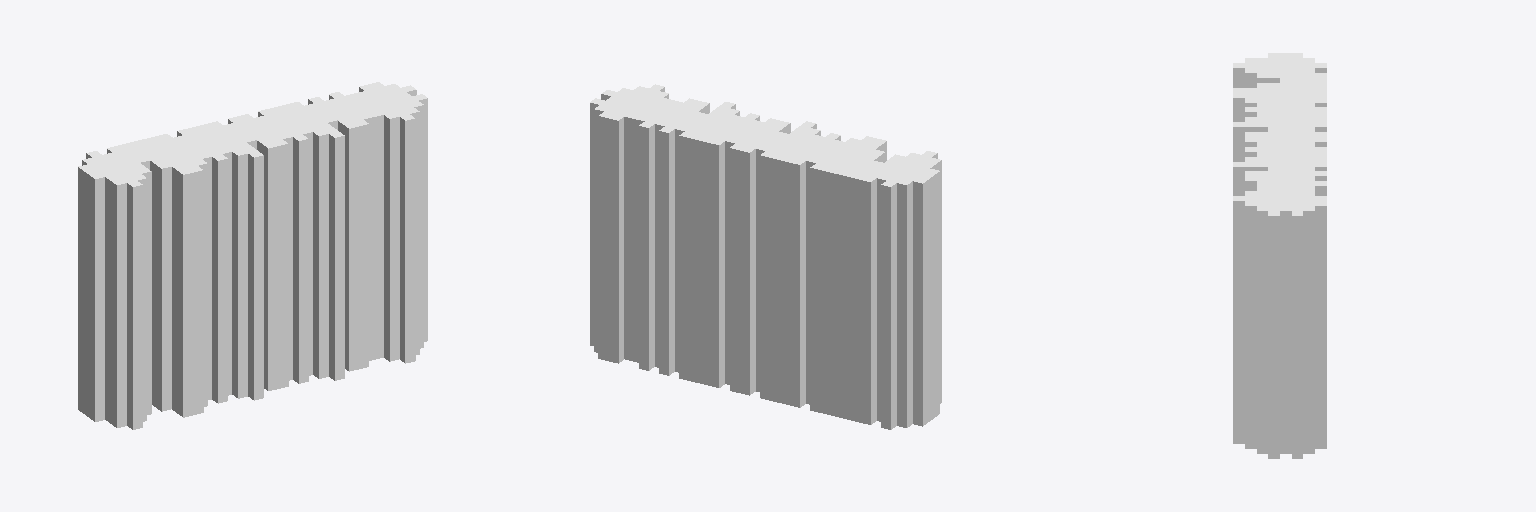
File: floor2-0-floor2.obj
The picture shows the model from 3 angles: view 1: azimuth 30°, elevation 25°; view 2: azimuth 150°, elevation 25°; view 3: azimuth 270°, elevation 25°; orthographic projection.
Visible parts, largest first — view 1: floor2; view 2: floor2; view 3: floor2.
Boxes of the visible parts, box(x1,y1,x2,y2) form: floor2: box(78, 82, 427, 429); floor2: box(590, 84, 941, 429); floor2: box(1233, 53, 1326, 458).
Bounding box in the file's own units: 3.3 × 2.3 × 0.8.